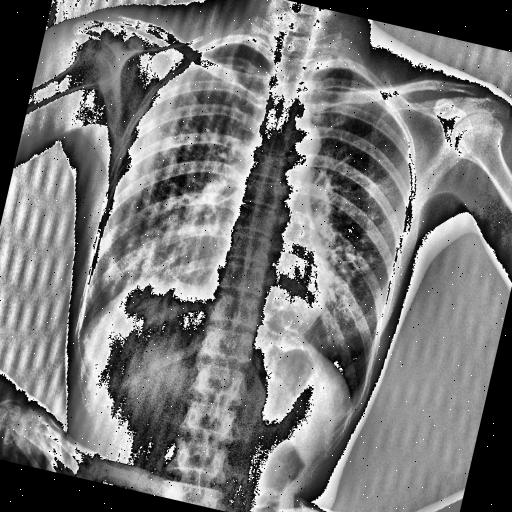5- ILD: (318, 224, 390, 294)
9- Other lesion: (256, 216, 384, 362), (274, 212, 390, 345), (124, 202, 200, 302)
